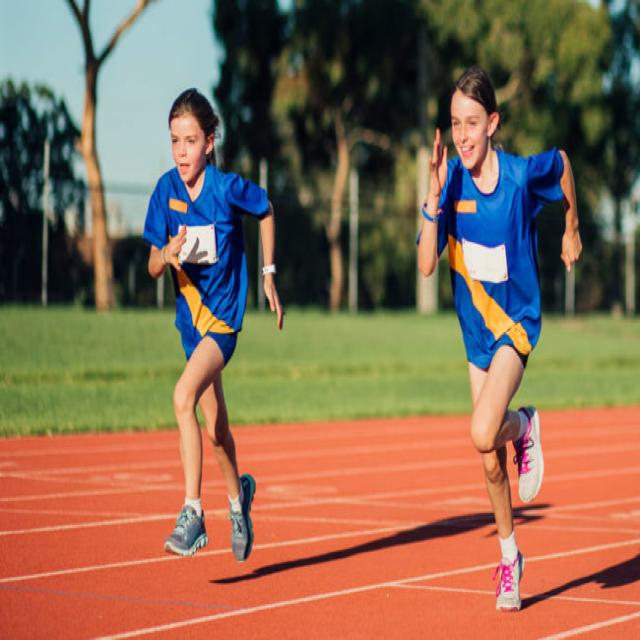Person: (416, 67, 582, 612), (142, 90, 284, 564)
